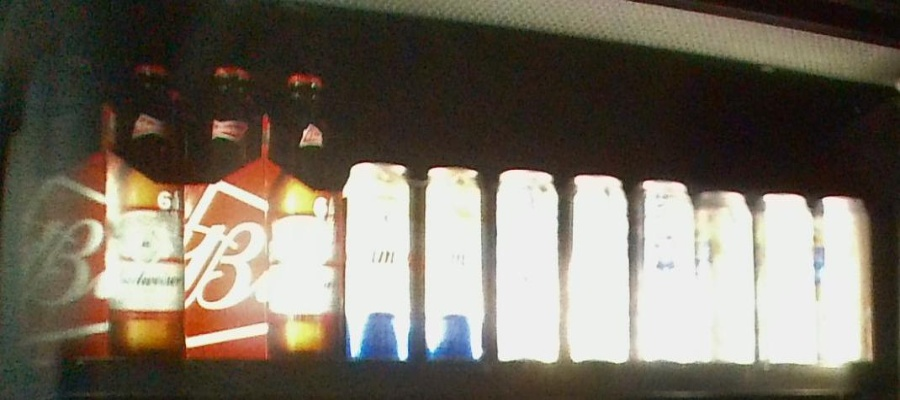bottle: (12, 46, 185, 359), (186, 47, 339, 359), (493, 168, 692, 365), (692, 184, 872, 365), (343, 157, 489, 362)
